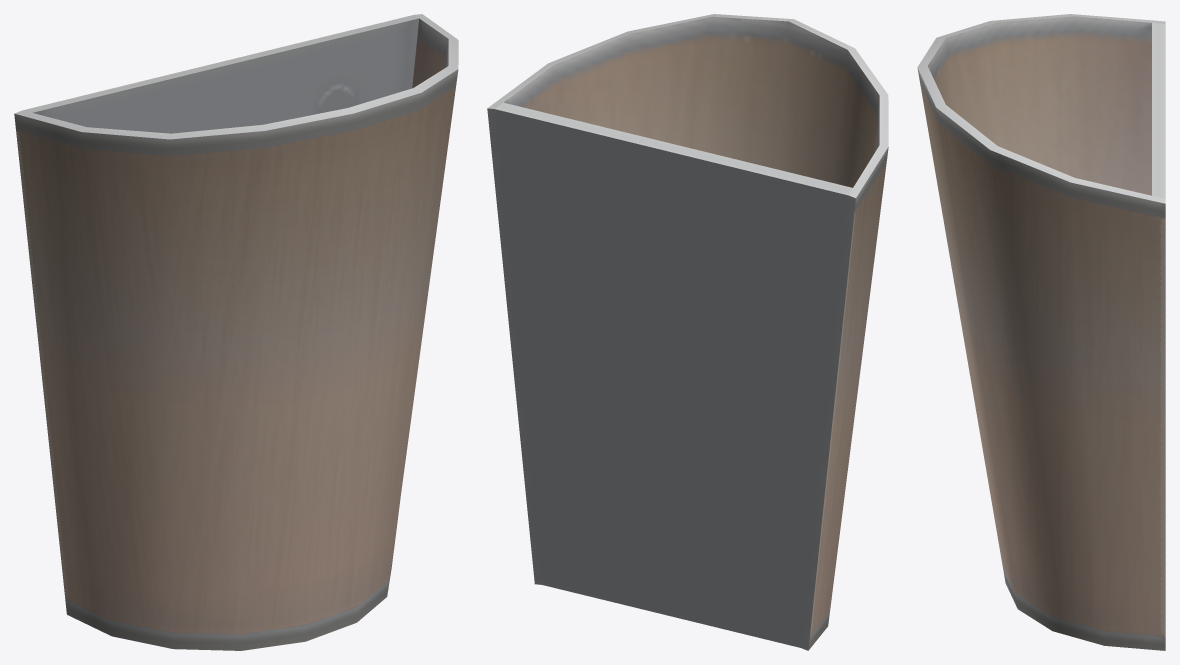
File: OfficeWallLight01.FBX
3 renders of one model, left to right at view 1: azimuth 30°, elevation 25°; view 2: azimuth 150°, elevation 25°; view 3: azimuth 270°, elevation 25°, orthographic. The views are drawn at different scales.
Visible parts, largest first — view 1: OfficeWallLight01; view 2: OfficeWallLight01; view 3: OfficeWallLight01.
Part boxes in pixels (bbox=[...]): OfficeWallLight01: bbox=[14, 14, 458, 650]; OfficeWallLight01: bbox=[487, 14, 888, 650]; OfficeWallLight01: bbox=[917, 14, 1165, 650].
Size of what is drawn, in the model's own units: 0.4148 by 0.5487 by 0.2386.
